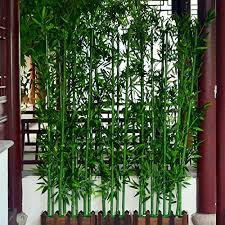bamboo: (29, 7, 196, 212)
